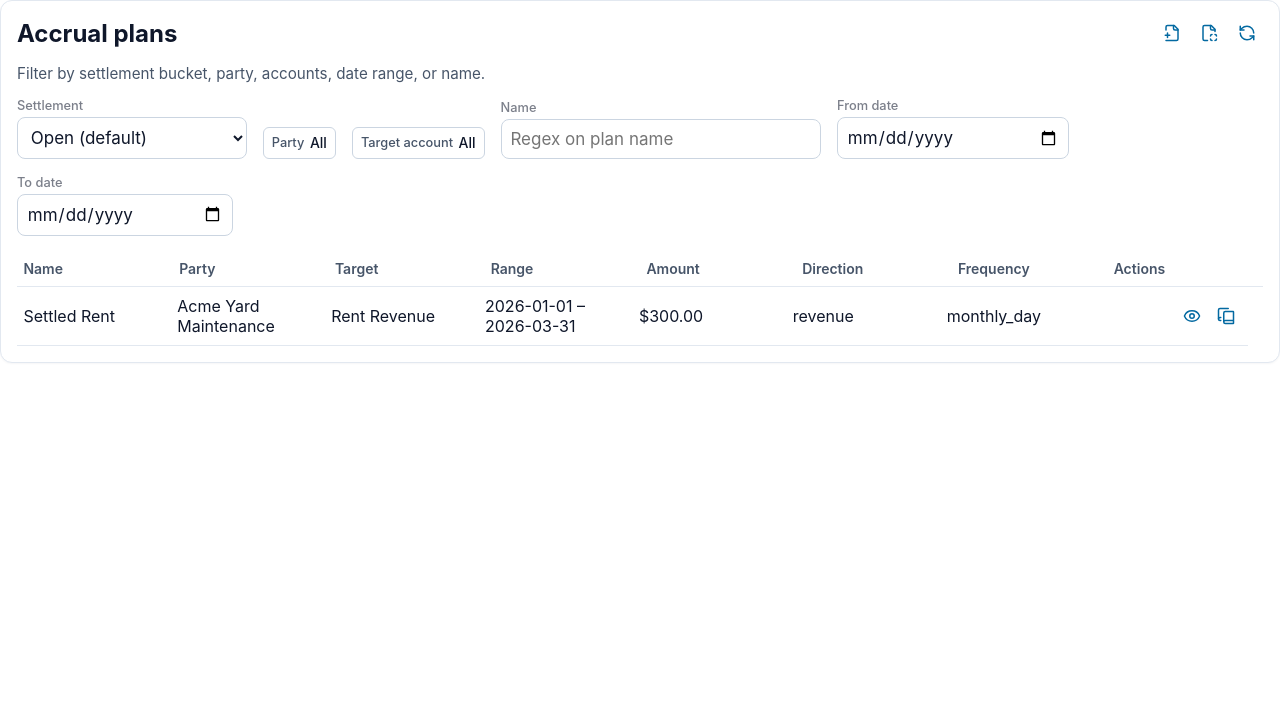
Test: AccrualPlansSection view modal › shows roll forward on frequency when business day adjust is enabled
Expected: the text "Settled Rent" is shown, x1=17 y1=287 x2=171 y2=345
Click the button named "View plan Settled Rent" at (1192, 316), box x1=1176 y1=300 x2=1208 y2=332
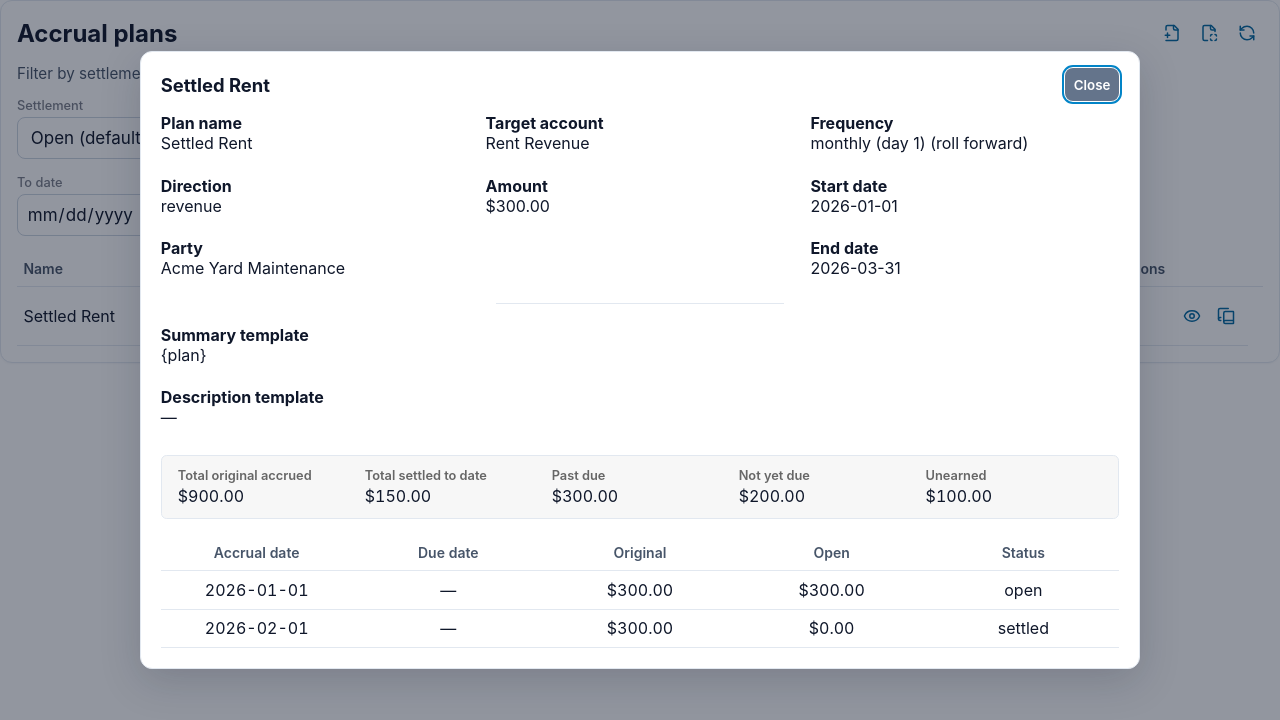
Now the text "monthly (day 1) (roll forward)" is shown, box x1=810 y1=133 x2=1028 y2=153
